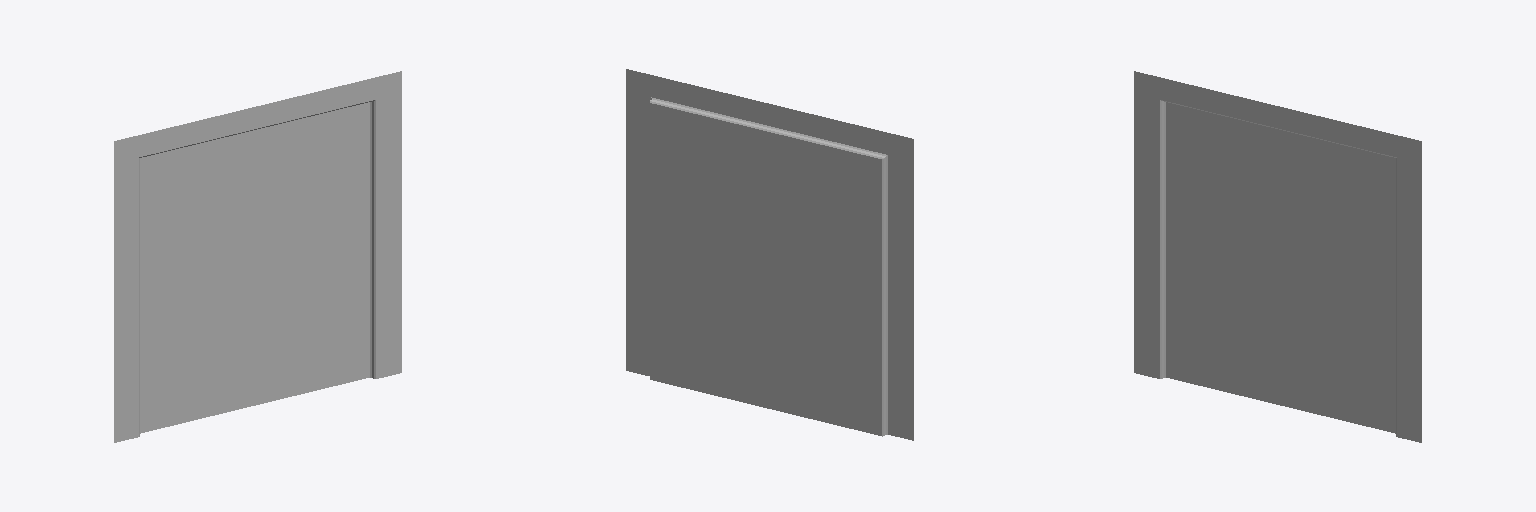
Rendered from Wall_02_OBJ.obj.
3 views of the same model, side by side, from view 1: azimuth 30°, elevation 25°; view 2: azimuth 150°, elevation 25°; view 3: azimuth 330°, elevation 25° (orthographic).
Parts seen in each view (by area): view 1: polySurface114 group2; view 2: polySurface114 group2; view 3: polySurface114 group2.
Boxes of the visible parts, <box> form: polySurface114 group2: <box>114,71,401,442</box>; polySurface114 group2: <box>626,69,913,440</box>; polySurface114 group2: <box>1134,71,1421,442</box>.
Size of the model in its own units: 450 by 451 by 8.94.